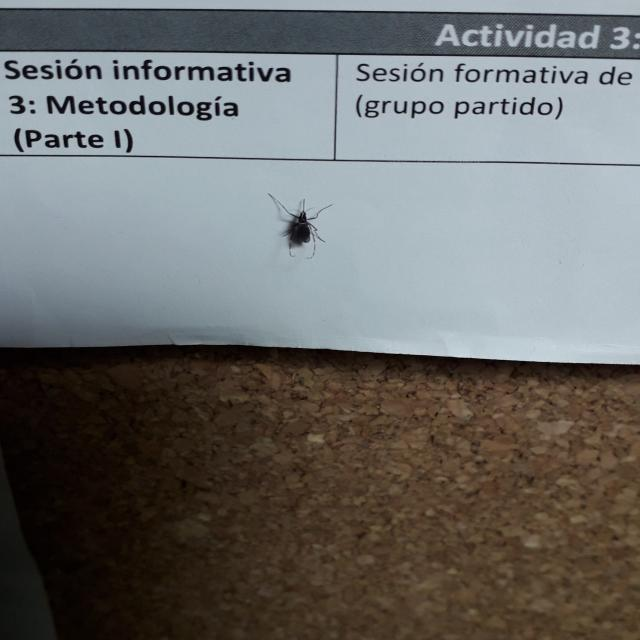albopictus: (259, 188, 336, 263)
